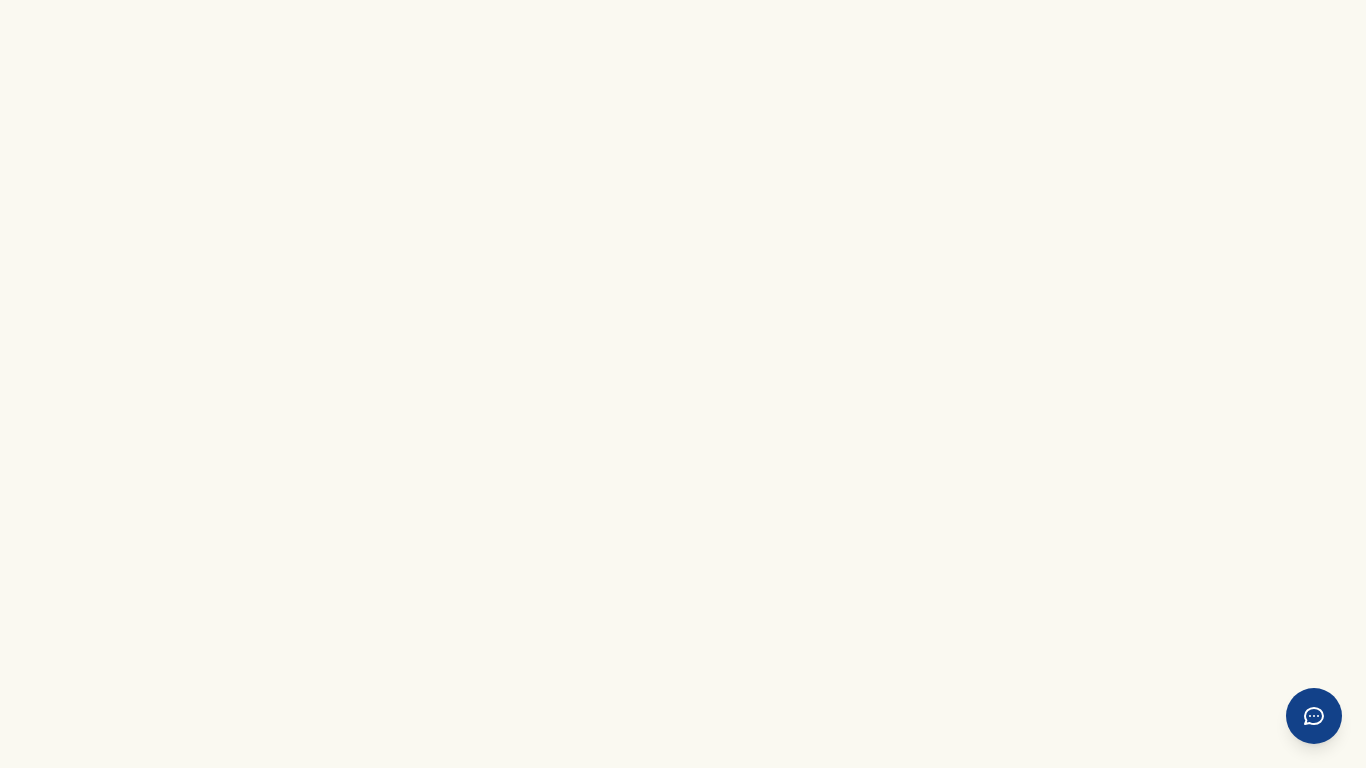
ConciergeChat › opens the chat panel when the button is clicked
The width and height of the screenshot is (1366, 768).
Click the button named "open concierge" at (1314, 716), box [1286,688,1342,744]
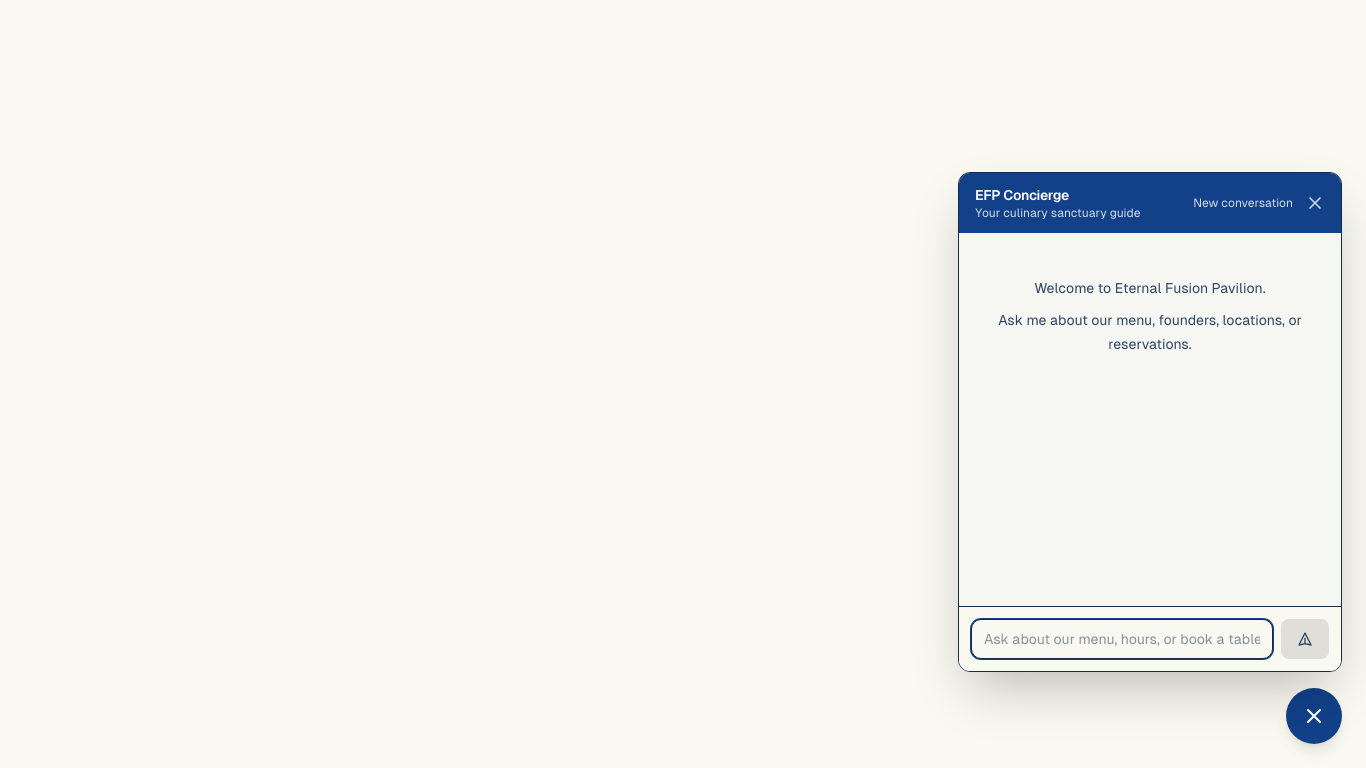
Result: the heading "EFP Concierge" is shown at [975,187,1069,203]
Result: the text "Welcome to Eternal Fusion Pavilion." is shown at [1034,280,1266,296]
